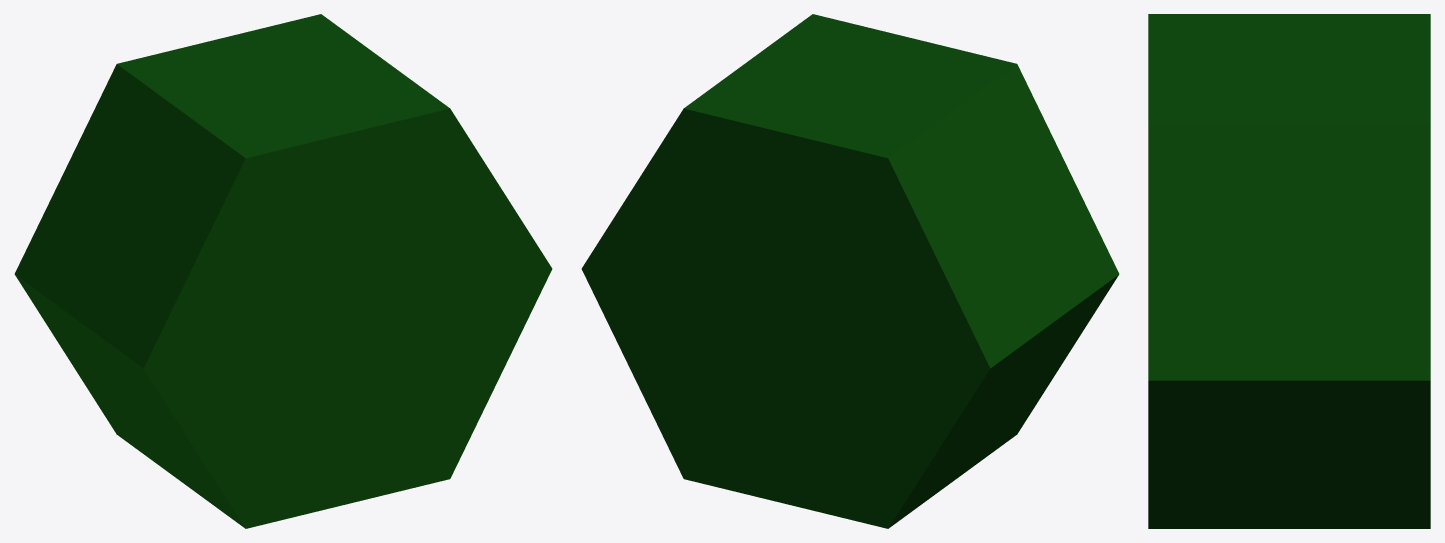
File: TabascoBottleCap.obj
3 views of the same model, side by side, from view 1: azimuth 30°, elevation 25°; view 2: azimuth 150°, elevation 25°; view 3: azimuth 270°, elevation 25° (orthographic). The views are drawn at different scales.
Visible parts, largest first — view 1: sodaBottle; view 2: sodaBottle; view 3: sodaBottle.
Part boxes in pixels (x1=…): sodaBottle: x1=14, y1=14, x2=552, y2=528; sodaBottle: x1=581, y1=14, x2=1119, y2=528; sodaBottle: x1=1148, y1=14, x2=1430, y2=528.
Size of the model in its own units: 0.0183 by 0.0158 by 0.01.
